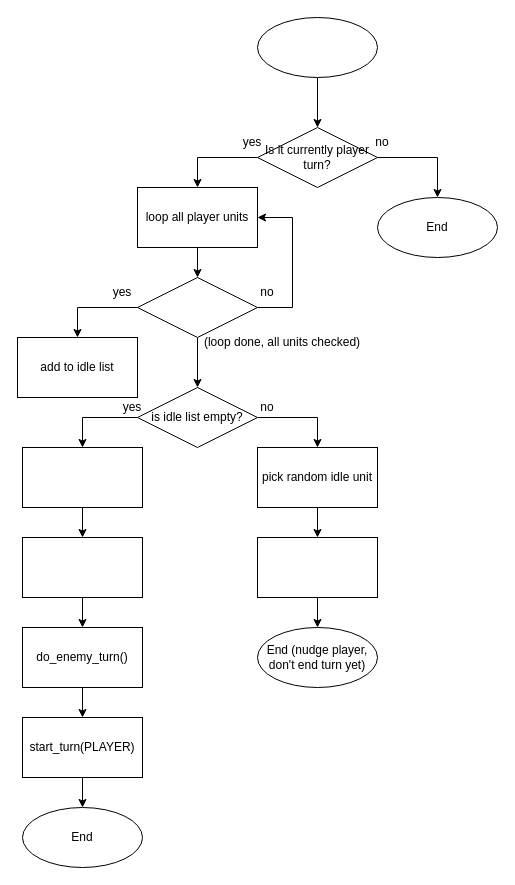
The diagram is 515 pixels wide and 885 high, and some of its shapes have lost their labels. Here are the shapes that lost their labels. From the top down, the centre of each, then its label:
At (x=317, y=47): "Start - player presses Turn button".
At (x=197, y=307): "unit hasn't moved OR has attack target?".
At (x=82, y=477): "clear all highlights".
At (x=82, y=567): "start_turn(ENEMY)".
At (x=317, y=567): "select it".
